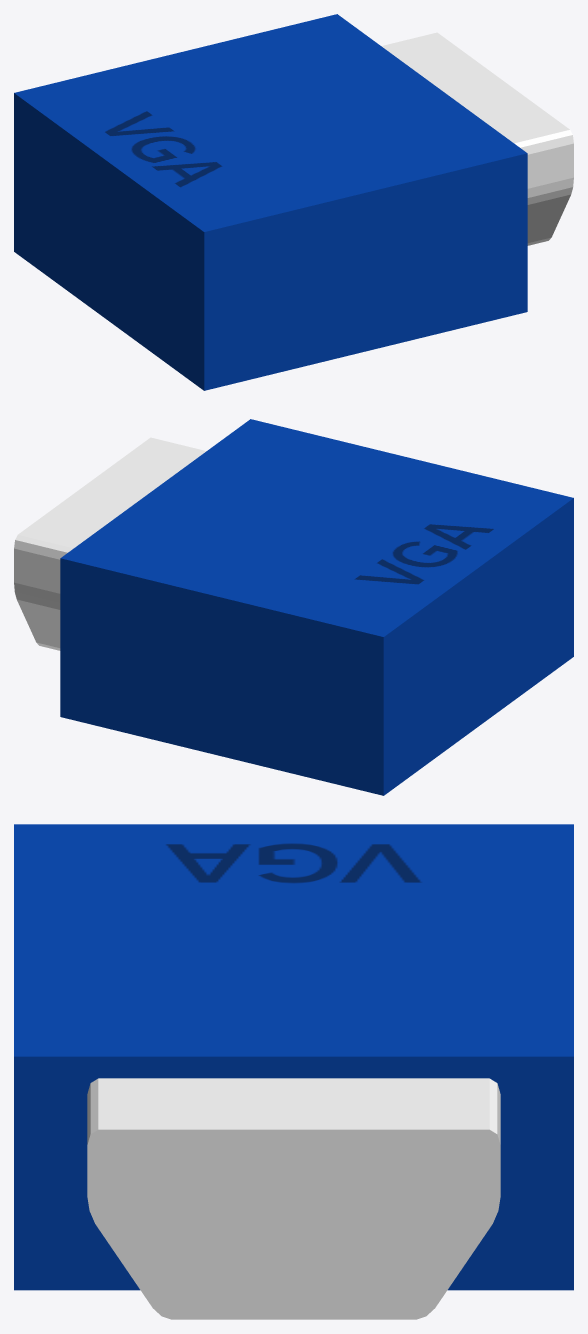
The model's file is VGA.fbx.
3 views of the same model, one above another, from view 1: azimuth 30°, elevation 25°; view 2: azimuth 150°, elevation 25°; view 3: azimuth 270°, elevation 25° (orthographic). The views are drawn at different scales.
Parts seen in each view (by area): view 1: VGA; view 2: VGA; view 3: VGA.
Boxes of the visible parts, <box> form: VGA: <box>14,14,573,390</box>; VGA: <box>14,419,573,795</box>; VGA: <box>14,824,573,1319</box>.
Bounding box in the file's own units: 182 × 70.03 × 152.
